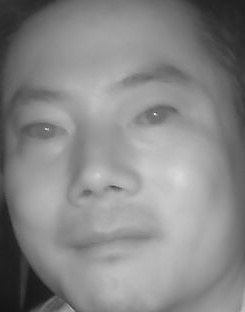eye: (17, 115, 70, 149), (126, 104, 182, 134)
mouth: (62, 216, 163, 269)
